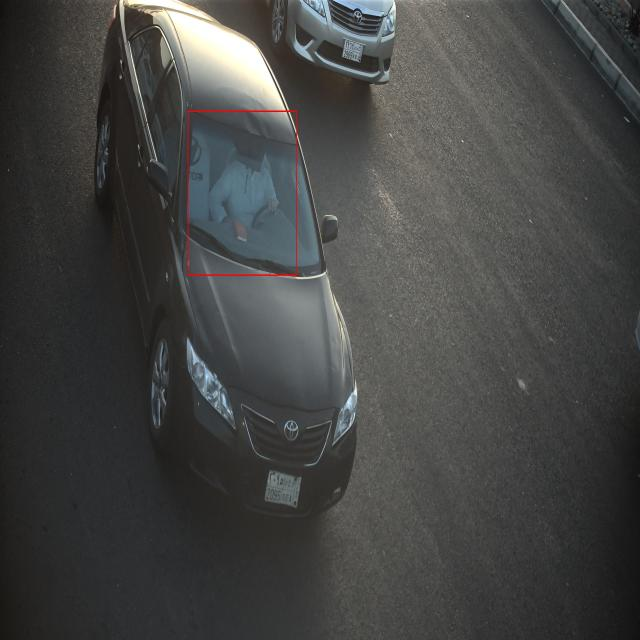windshield: (181, 104, 328, 287)
